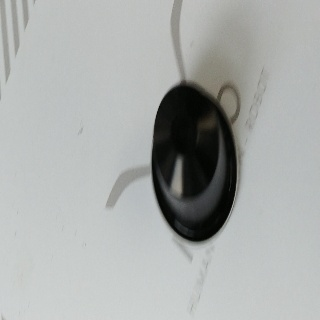capsule_10: (151, 81, 239, 245)
